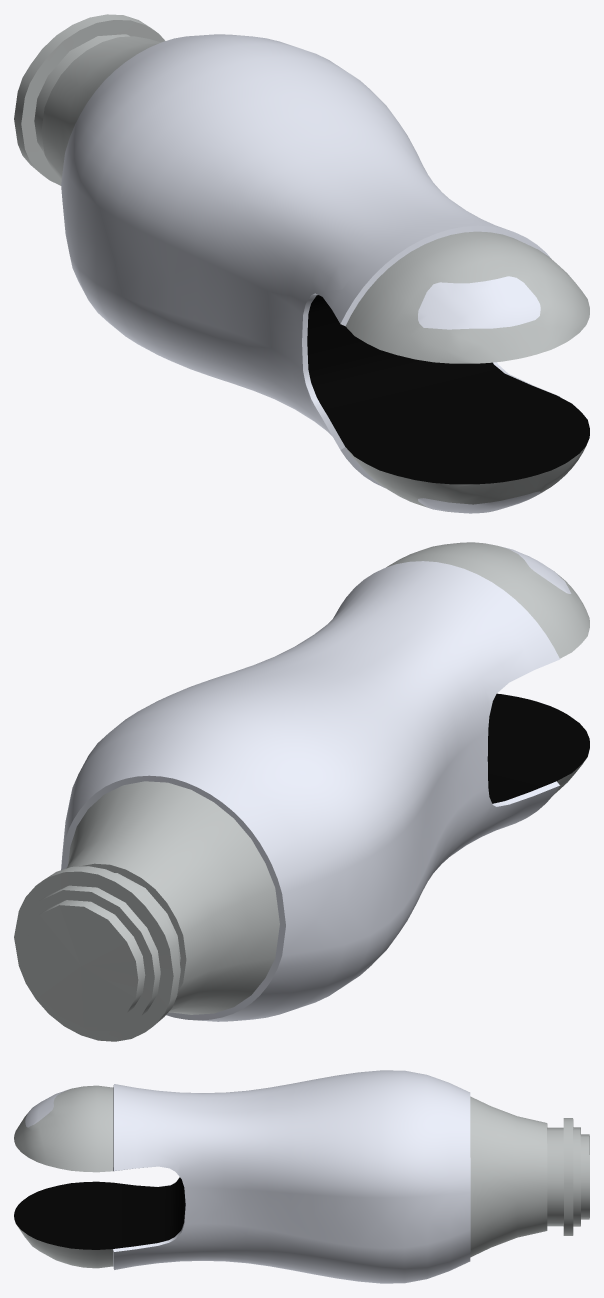
File: forearm.obj
3 renders of one model, top to bottom at view 1: azimuth 30°, elevation 25°; view 2: azimuth 150°, elevation 25°; view 3: azimuth 270°, elevation 25°, orthographic. The views are drawn at different scales.
Parts seen in each view (by area): view 1: forearm; view 2: forearm; view 3: forearm.
Boxes of the visible parts, x1=… form: forearm: x1=14, y1=14, x2=589, y2=513; forearm: x1=14, y1=542, x2=589, y2=1041; forearm: x1=14, y1=1070, x2=589, y2=1283.
Bounding box in the file's own units: 0.1168 × 0.1119 × 0.3079.
Materials: 1 (1 with a texture image).
